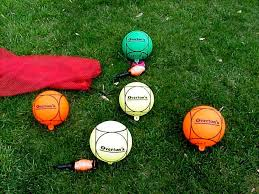buoy: (185, 106, 225, 152), (33, 91, 68, 128)
